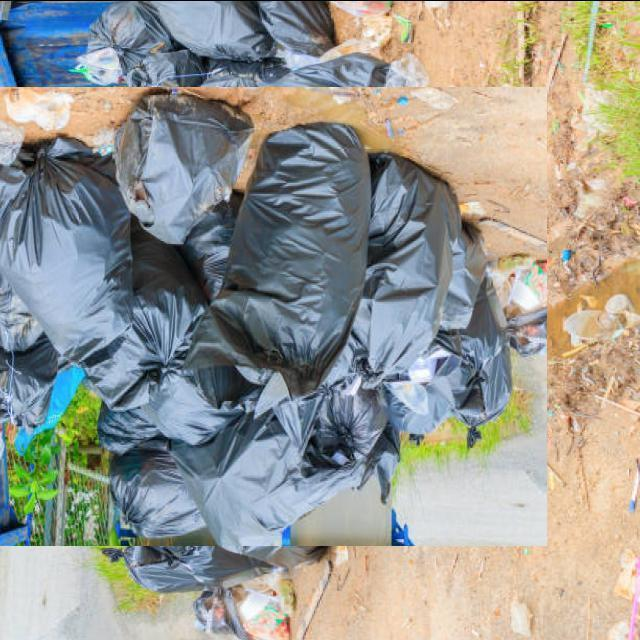Trashbag: (224, 116, 364, 393), (0, 138, 123, 346), (171, 428, 384, 544), (360, 148, 435, 370), (111, 98, 212, 241), (123, 240, 199, 398), (272, 367, 393, 464), (116, 447, 208, 561), (468, 285, 522, 441), (394, 342, 449, 446), (0, 353, 51, 437)
